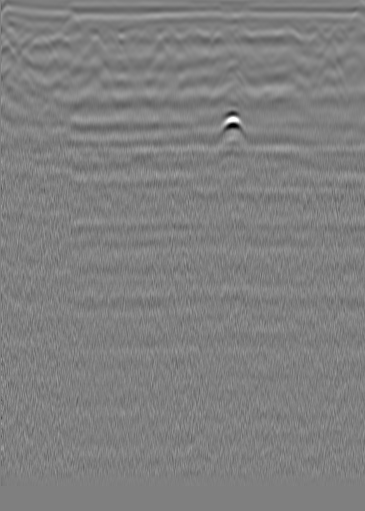가스: (212, 109, 250, 140)
상수: (305, 30, 325, 50)
오수: (25, 30, 45, 50)
우수: (150, 31, 170, 51)
